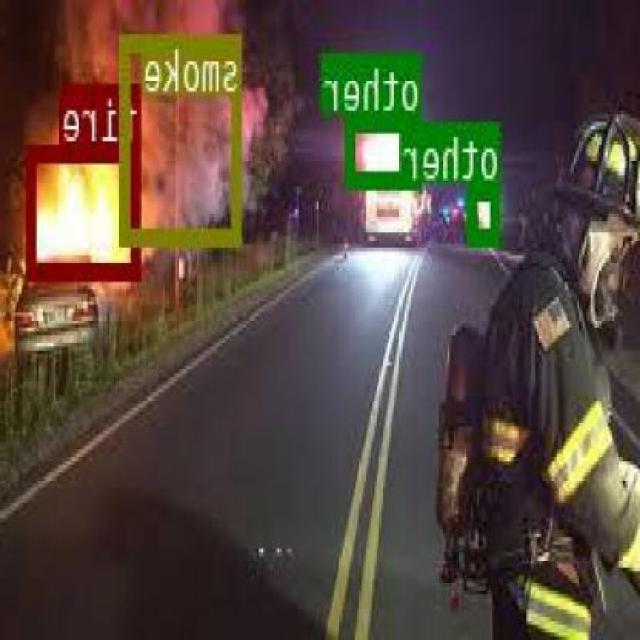fire: (28, 143, 143, 277)
other: (348, 112, 422, 186), (471, 180, 502, 245)
smoke: (124, 30, 244, 242)
